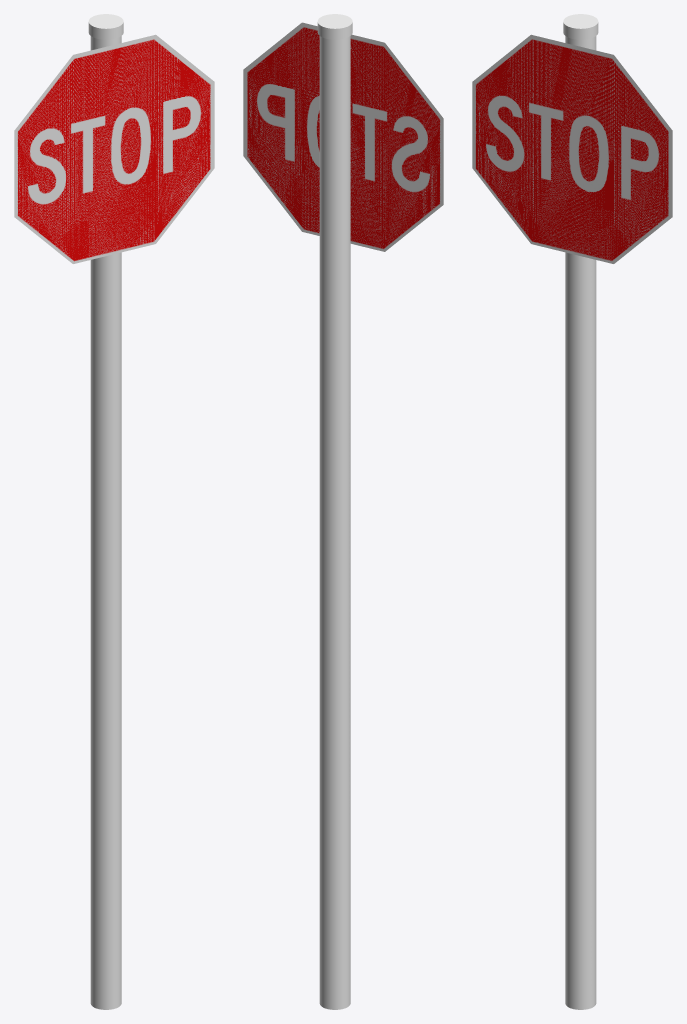
The picture shows the model from 3 angles, left to right: view 1: azimuth 30°, elevation 25°; view 2: azimuth 150°, elevation 25°; view 3: azimuth 330°, elevation 25°; orthographic projection.
Parts seen in each view (by area): view 1: group_0, 支柱1 (×2); view 2: 支柱1 (×2), group_0; view 3: group_0, 支柱1 (×2).
Boxes of the visible parts, left/top/right/bottom form: group_0: left=14, top=34, right=214, bottom=263; 支柱1 (×2): left=88, top=14, right=123, bottom=1009; 支柱1 (×2): left=317, top=14, right=352, bottom=1009; group_0: left=243, top=22, right=443, bottom=251; group_0: left=472, top=34, right=672, bottom=263; 支柱1 (×2): left=563, top=14, right=598, bottom=1009.
Size of the model in its own units: 21.82 by 3.32 by 102.
3 materials, 1 textured.
